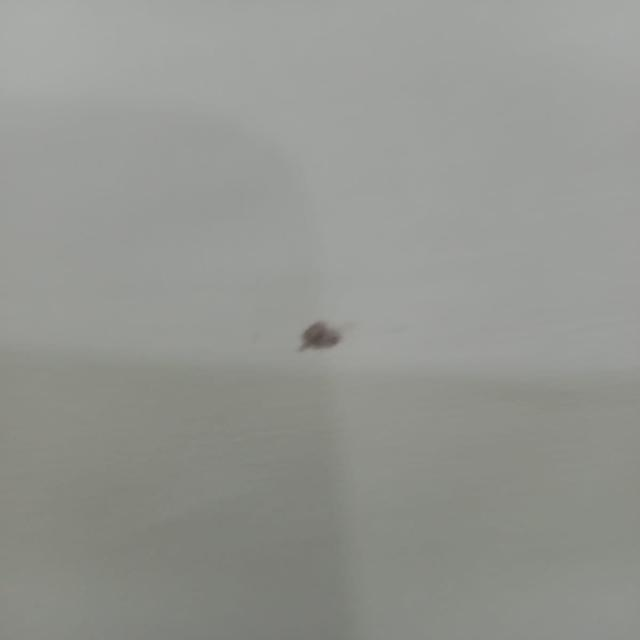stain: (278, 308, 369, 367)
